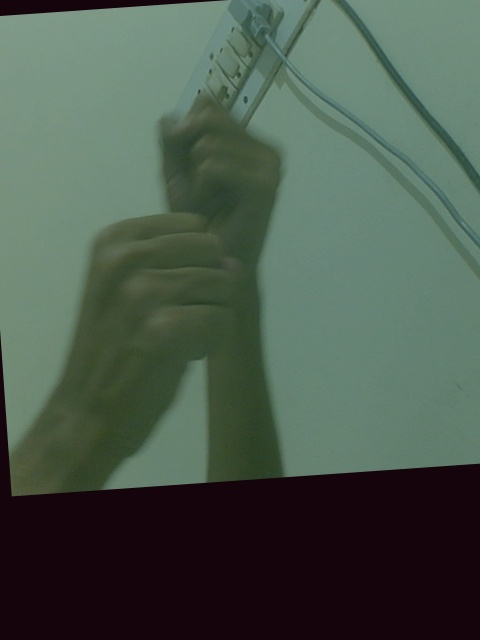hand: (37, 205, 254, 472), (156, 93, 290, 314)
